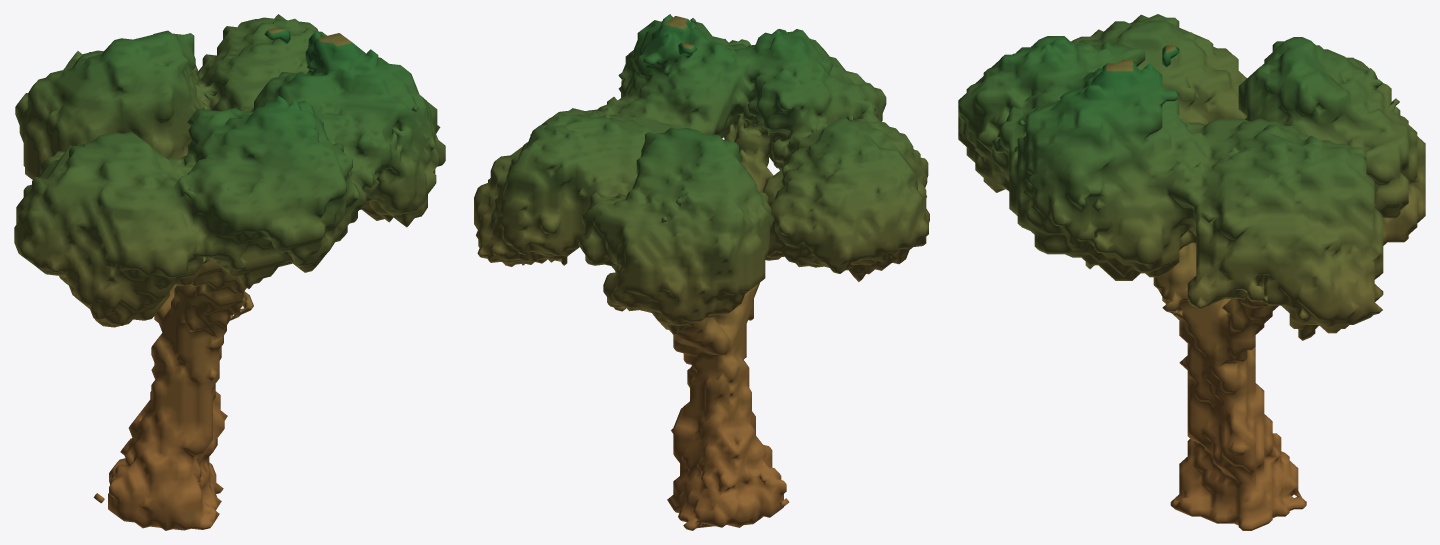
Rendered from gen3_colored.obj.
The picture shows the model from 3 angles, left to right: view 1: azimuth 30°, elevation 25°; view 2: azimuth 150°, elevation 25°; view 3: azimuth 270°, elevation 25°; orthographic projection. The views are drawn at different scales.
Bounding box in the file's own units: 59 × 64 × 55.
Materials: 1 (1 with a texture image).
